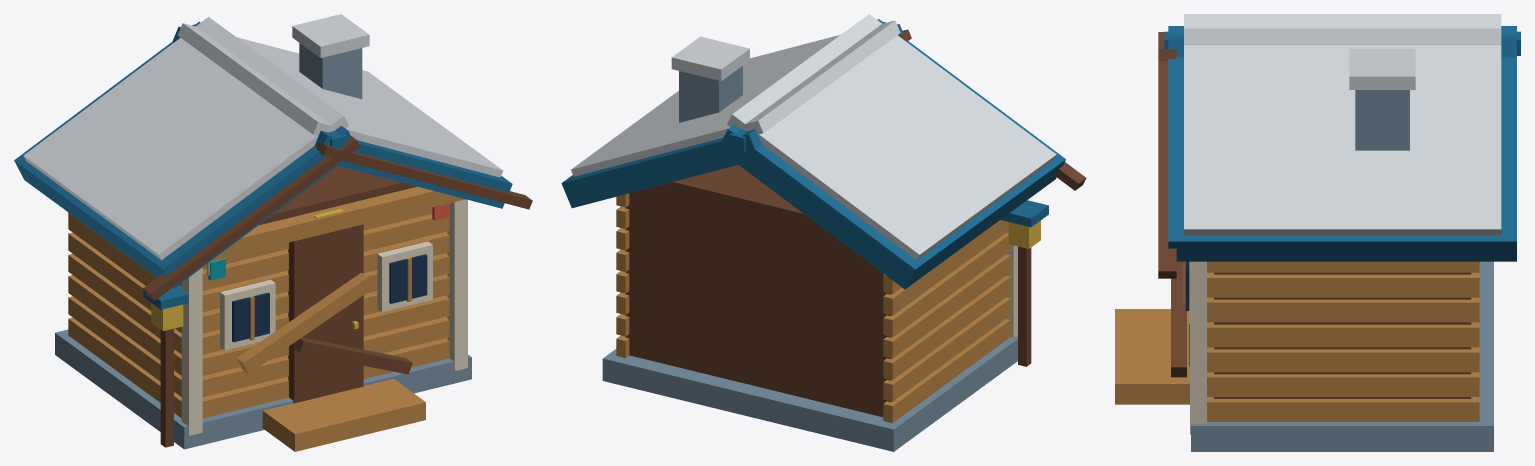
File: cabin.glb
3 renders of one model, left to right at view 1: azimuth 30°, elevation 25°; view 2: azimuth 150°, elevation 25°; view 3: azimuth 270°, elevation 25°, orthographic. The views are drawn at different scales.
Visible parts, largest first — view 1: Damaged, HomeI, HomeII; view 2: Damaged, HomeI; view 3: Damaged, HomeI.
Part boxes in pixels (bbox=[...]): Damaged: bbox=[14, 14, 532, 449]; HomeI: bbox=[143, 285, 425, 451]; HomeII: bbox=[206, 203, 449, 280]; Damaged: bbox=[561, 14, 1086, 451]; HomeI: bbox=[1000, 200, 1048, 366]; Damaged: bbox=[1158, 14, 1520, 451]; HomeI: bbox=[1115, 309, 1189, 404].
Size of the model in its own units: 4.51 by 3.43 by 3.55.
